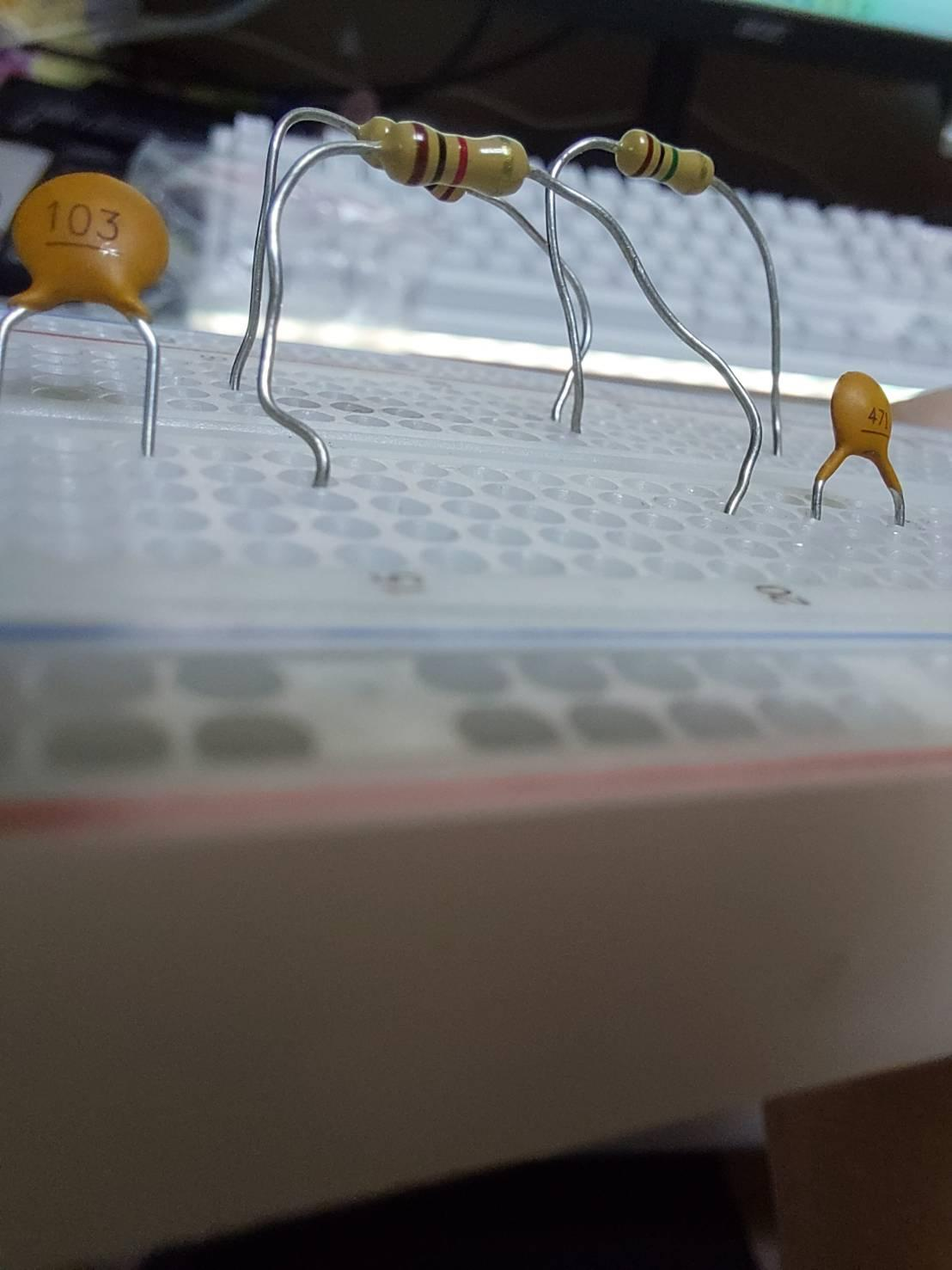resistor: (374, 122, 538, 190), (617, 122, 722, 208)
